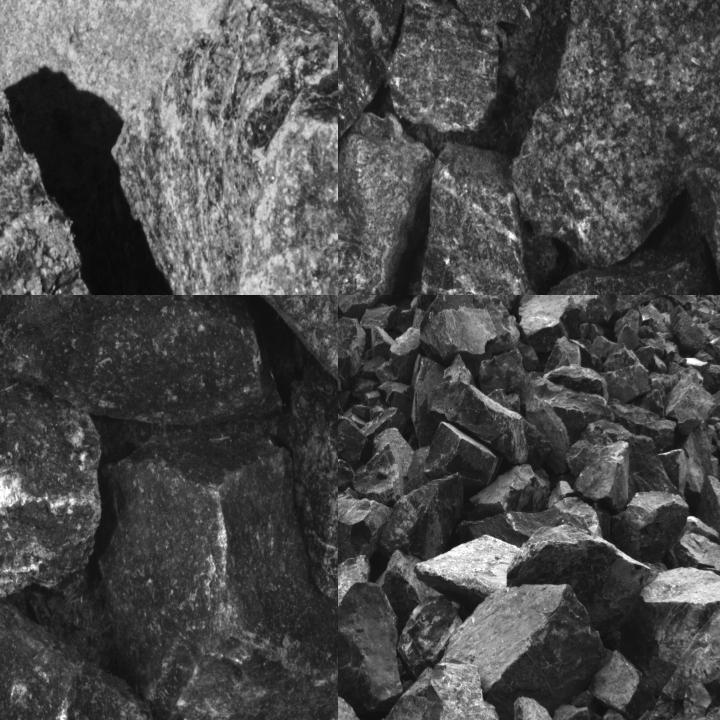stone: (98, 424, 337, 719), (0, 0, 203, 294), (122, 0, 323, 294), (515, 0, 719, 270), (191, 0, 337, 294), (0, 0, 337, 115), (0, 295, 281, 427), (0, 357, 102, 602), (176, 295, 337, 442), (442, 584, 609, 719), (413, 127, 539, 294), (0, 601, 159, 719), (338, 110, 434, 294), (367, 0, 616, 70), (507, 528, 652, 648), (388, 0, 500, 131), (338, 0, 401, 188), (286, 380, 337, 593), (640, 565, 719, 698), (430, 381, 552, 465), (338, 582, 405, 719), (379, 473, 467, 561), (413, 536, 518, 606), (464, 498, 610, 546), (586, 426, 681, 492), (660, 600, 719, 705), (424, 422, 501, 494), (376, 552, 445, 632), (398, 594, 463, 677), (421, 306, 497, 374), (403, 667, 500, 719), (467, 462, 551, 520), (615, 494, 686, 561), (686, 163, 719, 294), (338, 488, 393, 566), (540, 389, 615, 446), (595, 646, 650, 719), (574, 441, 628, 514), (518, 295, 581, 354), (353, 444, 404, 508), (612, 403, 674, 454), (667, 365, 712, 433), (678, 423, 720, 492), (376, 329, 426, 385), (476, 295, 521, 357), (418, 295, 486, 336), (551, 295, 617, 332), (674, 529, 719, 582), (338, 554, 372, 616), (338, 318, 367, 390), (636, 373, 678, 418), (338, 414, 374, 464), (599, 366, 650, 401), (671, 306, 708, 351), (500, 694, 565, 719), (338, 295, 394, 322), (542, 339, 582, 376), (566, 440, 594, 476), (613, 295, 651, 316), (483, 295, 526, 313), (338, 459, 356, 500)
